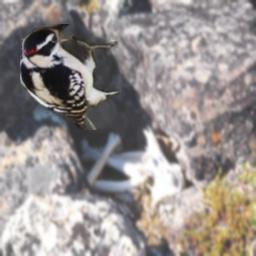Woodpecker: (20, 24, 120, 130)
